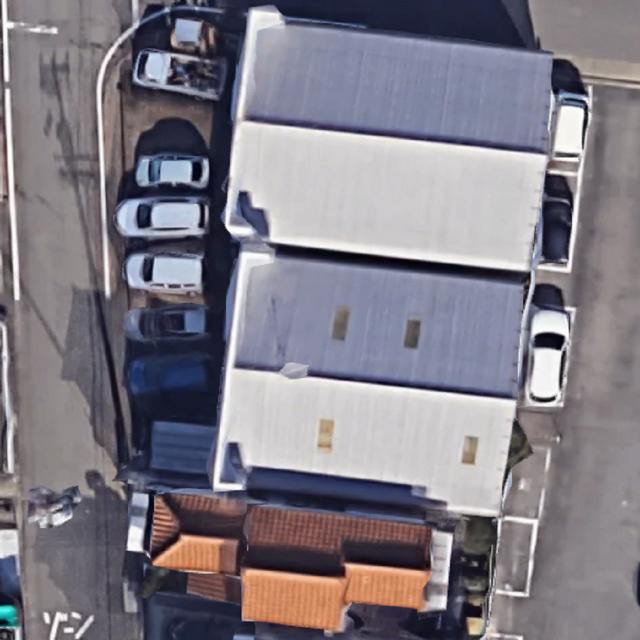Batiment: (226, 8, 553, 271), (213, 245, 528, 516), (150, 492, 453, 632)
